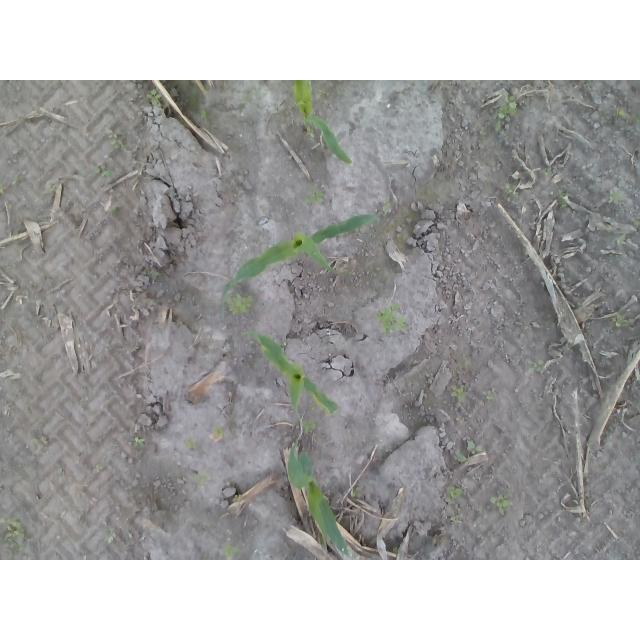Maize: (216, 215, 376, 294), (239, 330, 342, 415), (287, 439, 354, 558), (294, 81, 355, 164)
Weeds: (375, 302, 410, 334), (0, 515, 24, 555), (495, 91, 518, 132), (225, 292, 255, 316), (454, 439, 483, 462), (489, 490, 513, 511), (107, 128, 129, 149), (445, 486, 465, 506), (300, 419, 320, 434), (306, 191, 325, 206), (528, 358, 544, 375), (96, 160, 113, 176), (608, 189, 624, 205), (449, 384, 464, 401), (223, 543, 240, 558), (147, 88, 162, 105), (611, 311, 625, 327), (611, 233, 624, 248), (559, 192, 570, 209), (611, 106, 626, 118), (184, 438, 199, 449), (213, 424, 226, 436), (104, 528, 113, 545), (351, 486, 363, 498), (449, 515, 463, 525), (506, 183, 517, 195), (482, 390, 494, 400), (630, 113, 640, 124), (319, 87, 329, 98), (306, 127, 316, 137), (135, 436, 146, 445), (383, 196, 391, 208), (201, 110, 209, 122), (543, 168, 553, 177), (584, 80, 593, 88), (95, 464, 103, 473), (0, 182, 4, 194)
